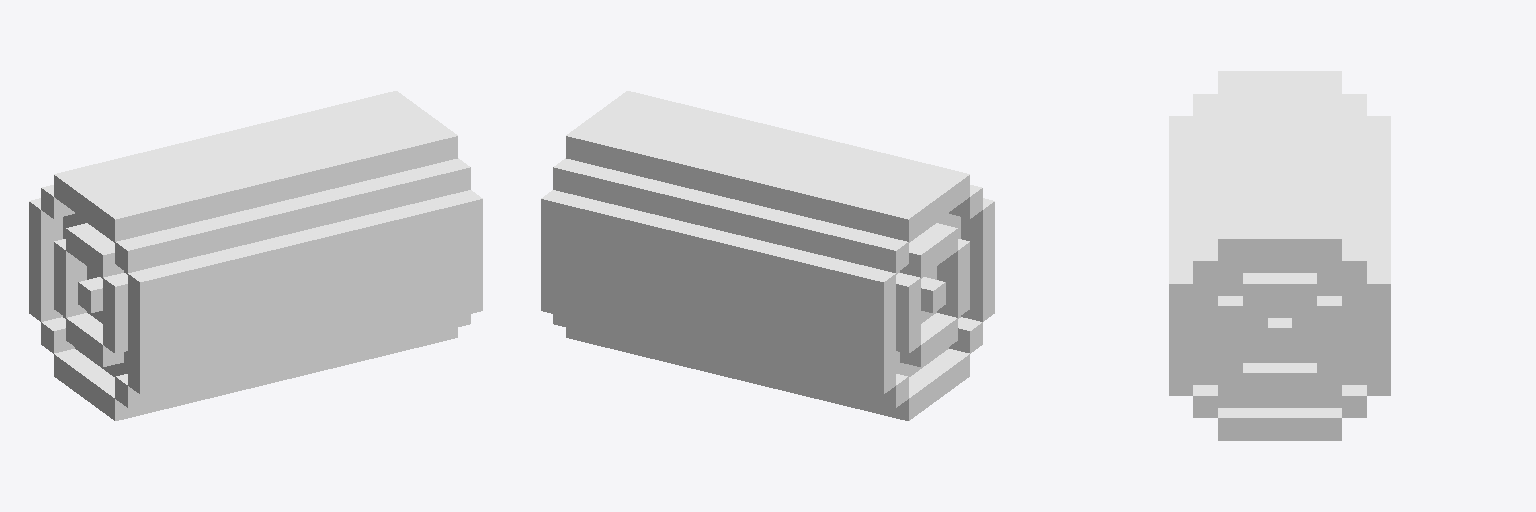
The model's file is Straw_Bales.obj.
The picture shows the model from 3 angles: view 1: azimuth 30°, elevation 25°; view 2: azimuth 150°, elevation 25°; view 3: azimuth 270°, elevation 25°; orthographic projection.
Visible parts, largest first — view 1: Straw_Bales; view 2: Straw_Bales; view 3: Straw_Bales.
Boxes of the visible parts, box(x1,y1,x2,y2) form: Straw_Bales: box(29, 91, 482, 420); Straw_Bales: box(541, 91, 994, 420); Straw_Bales: box(1169, 71, 1390, 440).
Size of the model in its own units: 16 by 9 by 9.